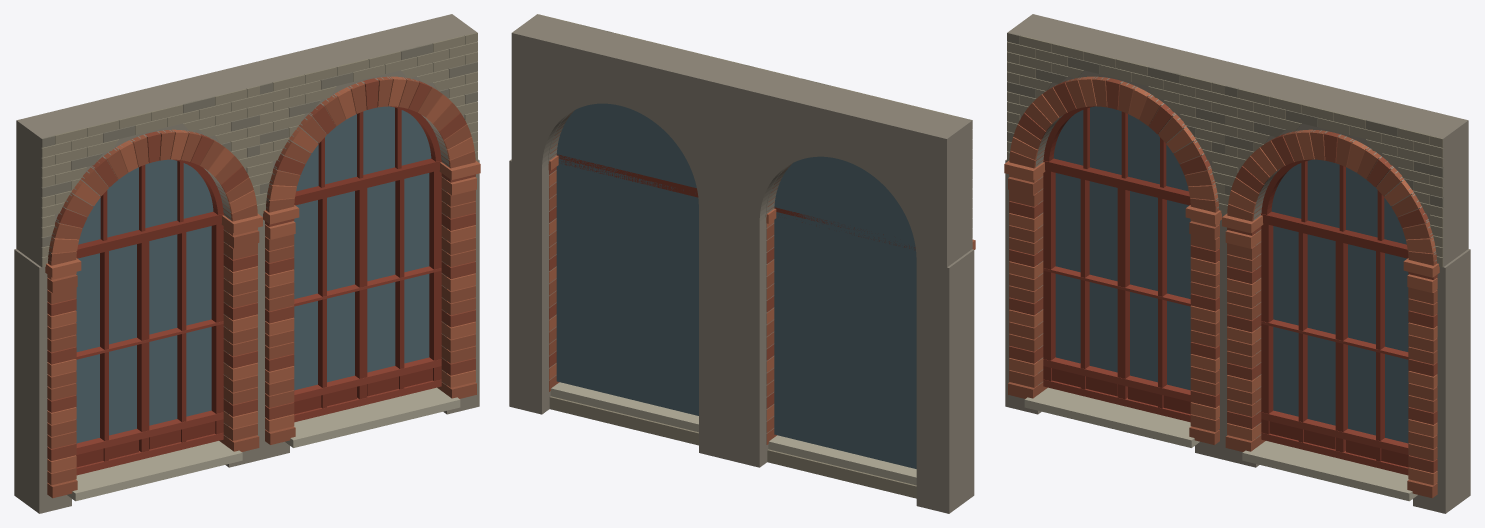
File: hongkou-shanyin-274-paired-brick-arches-raw.glb
3 renders of one model, left to right at view 1: azimuth 30°, elevation 25°; view 2: azimuth 150°, elevation 25°; view 3: azimuth 330°, elevation 25°, orthographic.
Visible parts, largest first — view 1: 山阴路274弄住宅成对红砖券窗与木格上亮; view 2: 山阴路274弄住宅成对红砖券窗与木格上亮; view 3: 山阴路274弄住宅成对红砖券窗与木格上亮.
Part boxes in pixels (x1,y1,x2,y2): 山阴路274弄住宅成对红砖券窗与木格上亮: [14, 14, 480, 513]; 山阴路274弄住宅成对红砖券窗与木格上亮: [509, 14, 975, 513]; 山阴路274弄住宅成对红砖券窗与木格上亮: [1004, 14, 1470, 513].
Bounding box in the file's own units: 2.82 × 2.29 × 0.374.
